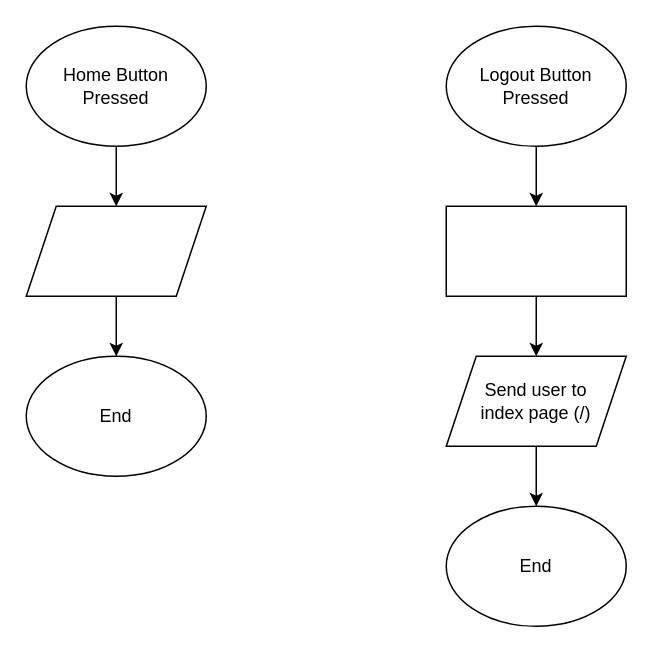
This 653x653 diagram has some shape labels left out. Each missing label, with the centre of its shape:
"Delete user's session token from Auth DB" belongs at (x=535, y=250).
"Send user to /home page" belongs at (x=115, y=250).
